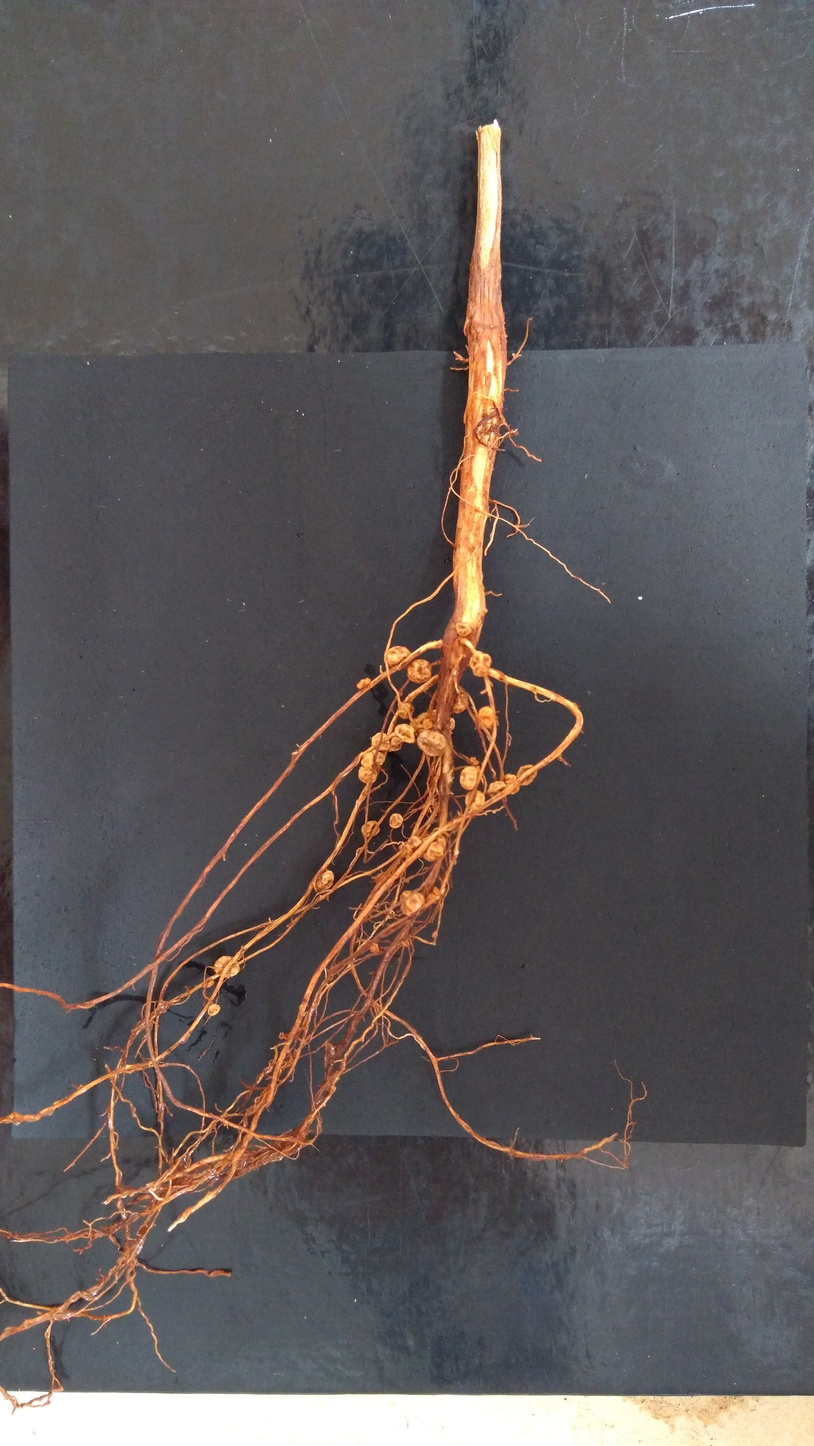nodule: (415, 729, 447, 757), (415, 835, 444, 862), (400, 890, 426, 916), (406, 658, 432, 683), (409, 712, 435, 737), (213, 955, 240, 979), (384, 646, 412, 669), (469, 650, 492, 677), (451, 684, 469, 714), (394, 723, 417, 744), (477, 705, 496, 730), (459, 766, 478, 790), (315, 869, 334, 892), (169, 1170, 194, 1187), (465, 790, 485, 811), (517, 765, 537, 785), (371, 732, 390, 752), (358, 765, 378, 783), (361, 752, 379, 771), (375, 872, 395, 889), (503, 773, 519, 794), (324, 1041, 336, 1069), (487, 781, 506, 798), (361, 820, 380, 837), (425, 886, 443, 903), (370, 748, 386, 766), (174, 1154, 192, 1170), (456, 621, 472, 638), (398, 702, 414, 719), (399, 841, 414, 858), (3, 1112, 21, 1126), (388, 735, 402, 752), (389, 813, 403, 828), (207, 1003, 220, 1017), (356, 678, 371, 690), (446, 765, 454, 785), (409, 836, 422, 848), (442, 760, 451, 774), (423, 718, 433, 730), (370, 942, 380, 953), (202, 980, 214, 989), (449, 717, 455, 731), (470, 757, 479, 766), (431, 931, 439, 938), (278, 1031, 284, 1040), (431, 709, 436, 716), (454, 664, 459, 670), (512, 352, 515, 356)
